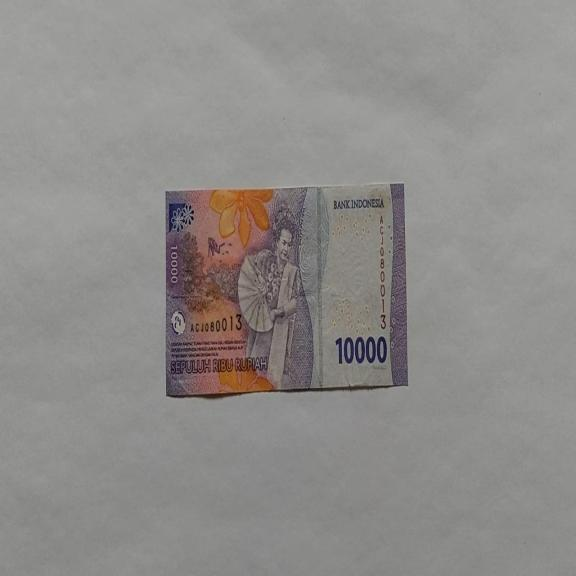Kertas: (164, 182, 408, 398)
